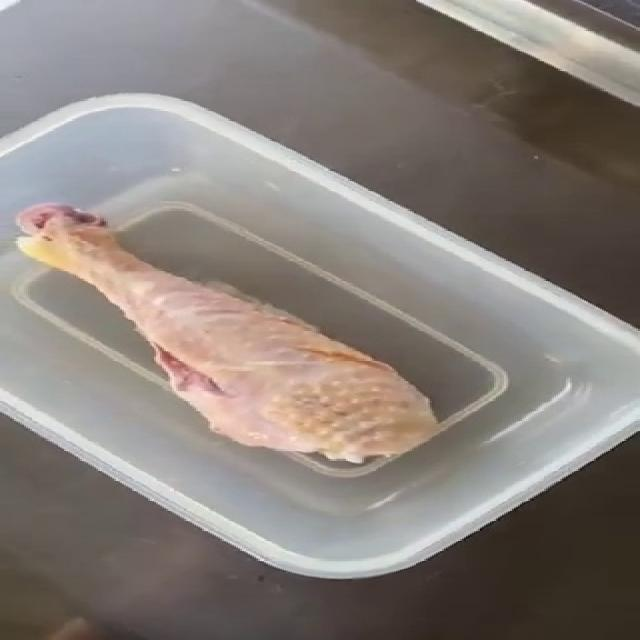chicken: (0, 197, 448, 469)
